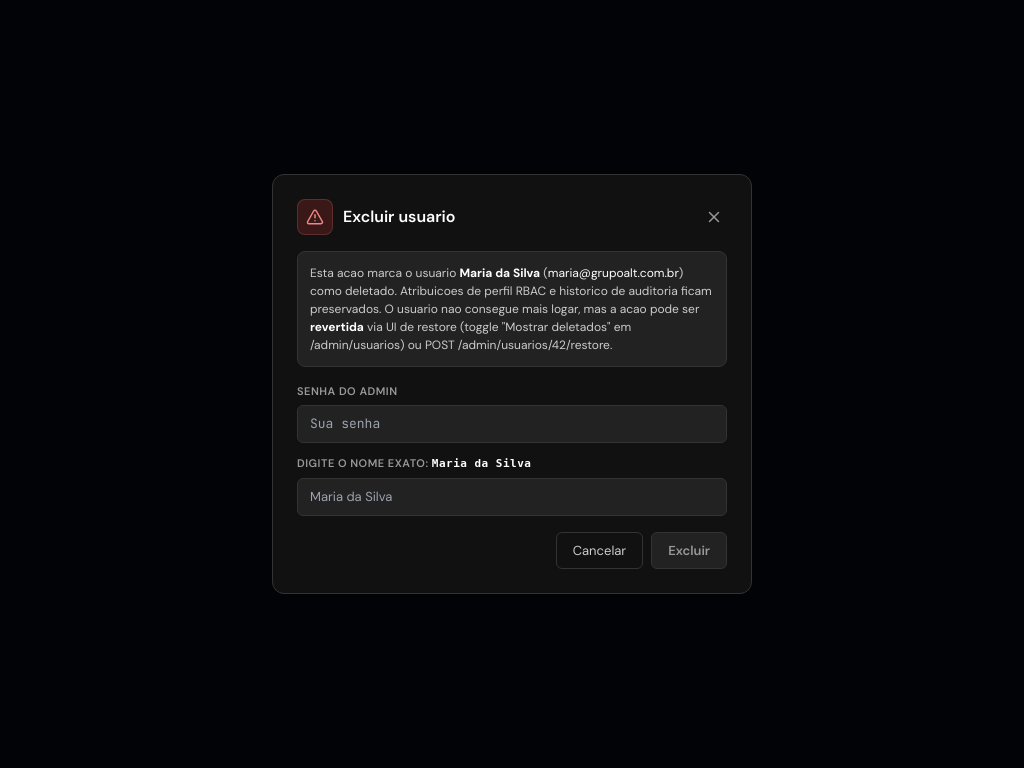
Test case: <DeleteUsuarioModal /> › botao continua disabled com nome errado
Step 1. Type "admin123" into the password field labelled "Senha do admin" → {"x": 512, "y": 424}, box [297,405,727,443]
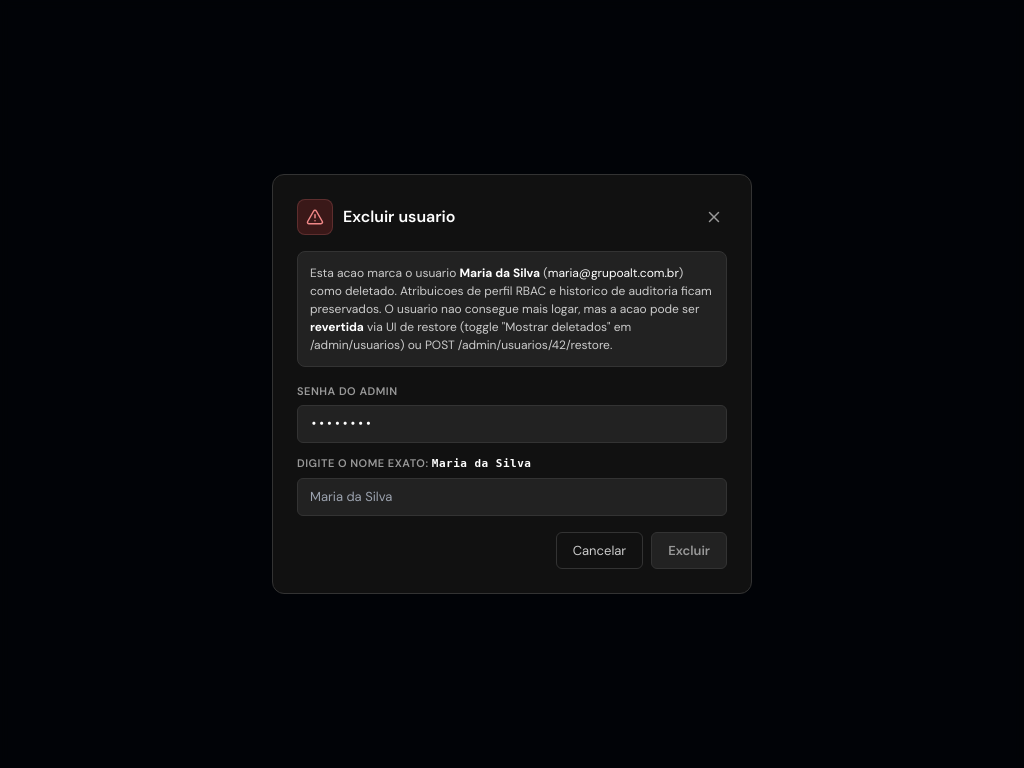
Step 2. Type "Maria" into the field labelled "Digite o nome exato: Maria da Silva" → {"x": 512, "y": 497}, box [297,478,727,516]
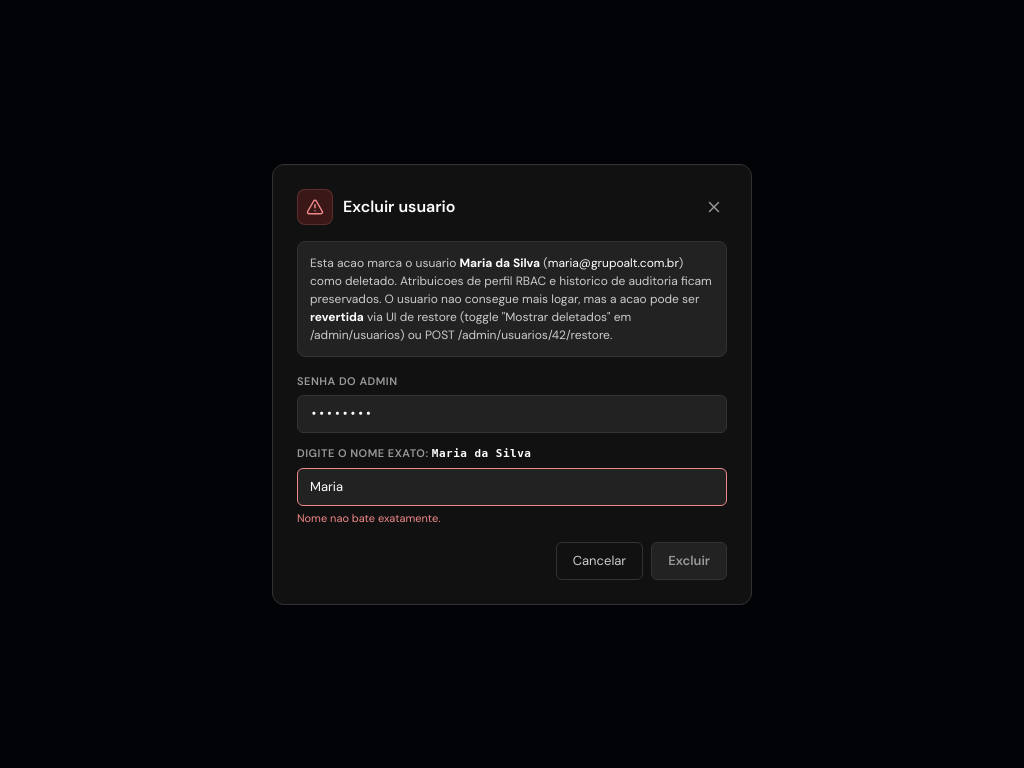
expect the button "Excluir" is disabled: met, box [651,542,727,580]
expect the text "Nome nao bate exatamente." is shown: met, box [297,510,440,524]
